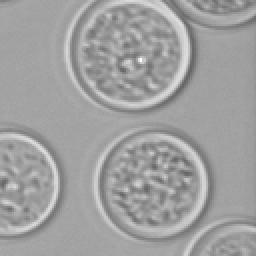picoshell: (64, 0, 192, 110), (92, 128, 210, 238), (0, 128, 60, 236), (182, 218, 254, 254), (170, 0, 254, 26)
